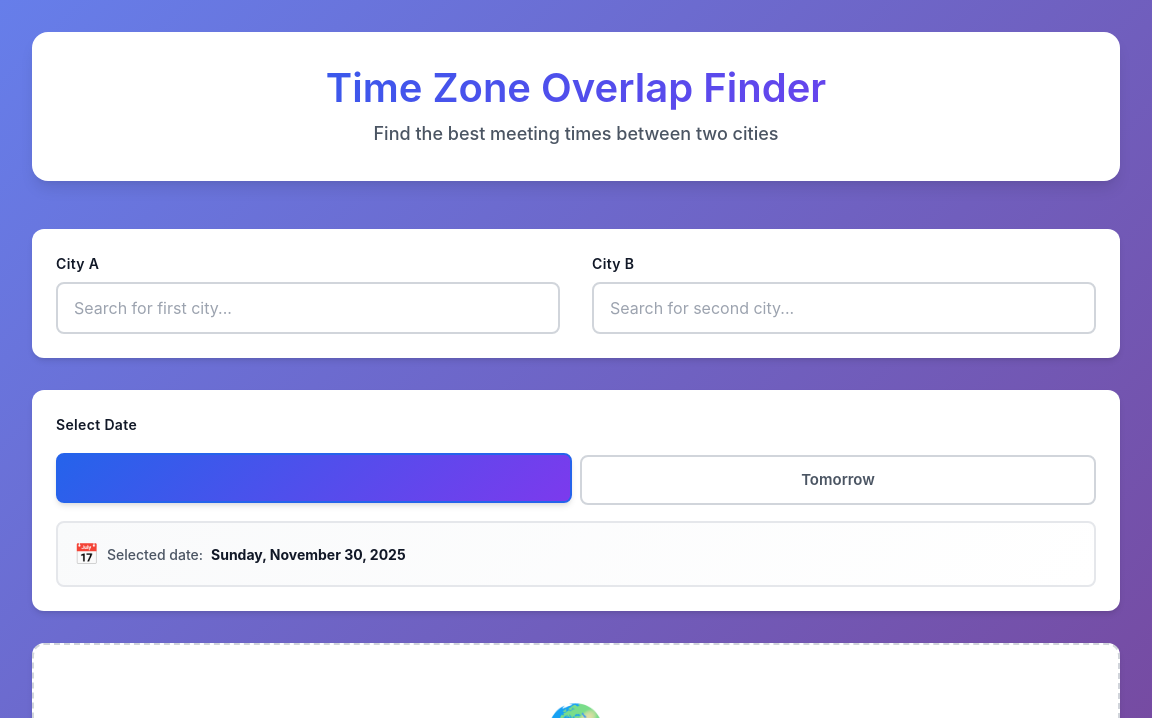
it: App - End-to-End Integration Tests › should maintain state when toggling custom hours on and off
// Select cities
Type "Paris" into the field named "search for city a". click: point(308, 308)
box: [56,282,560,334]
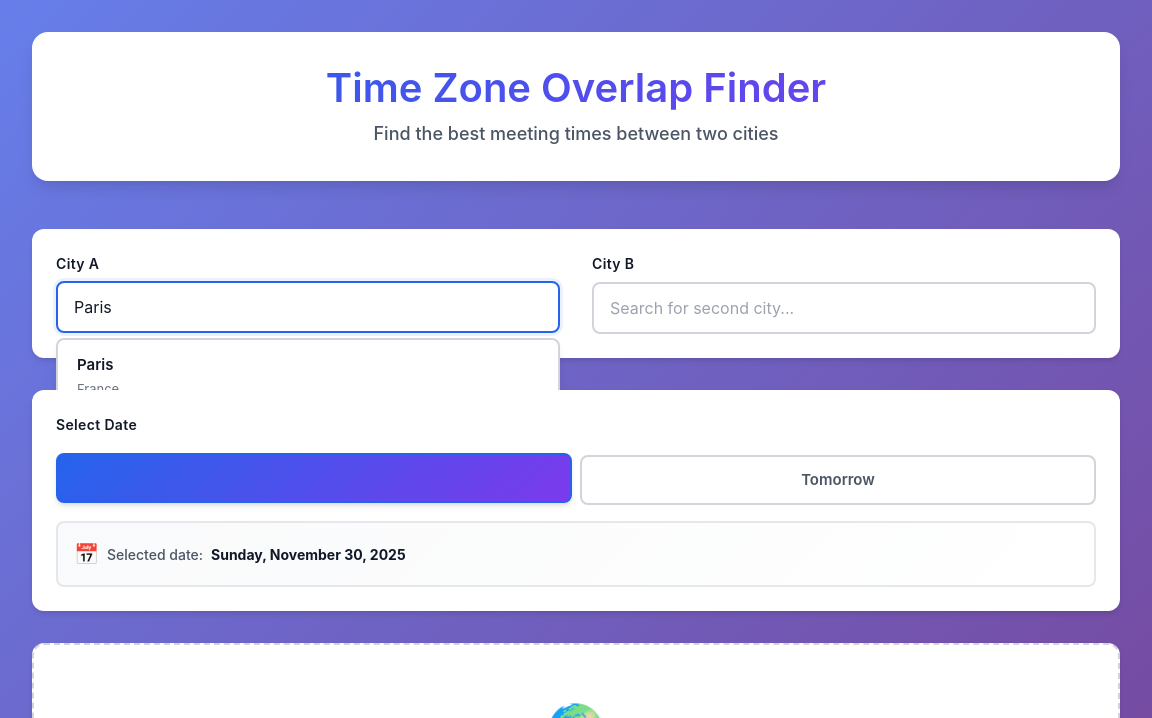
Expected: the text "Paris" is shown
Click the text "Paris". click: point(95, 364)
box: [77,355,113,374]
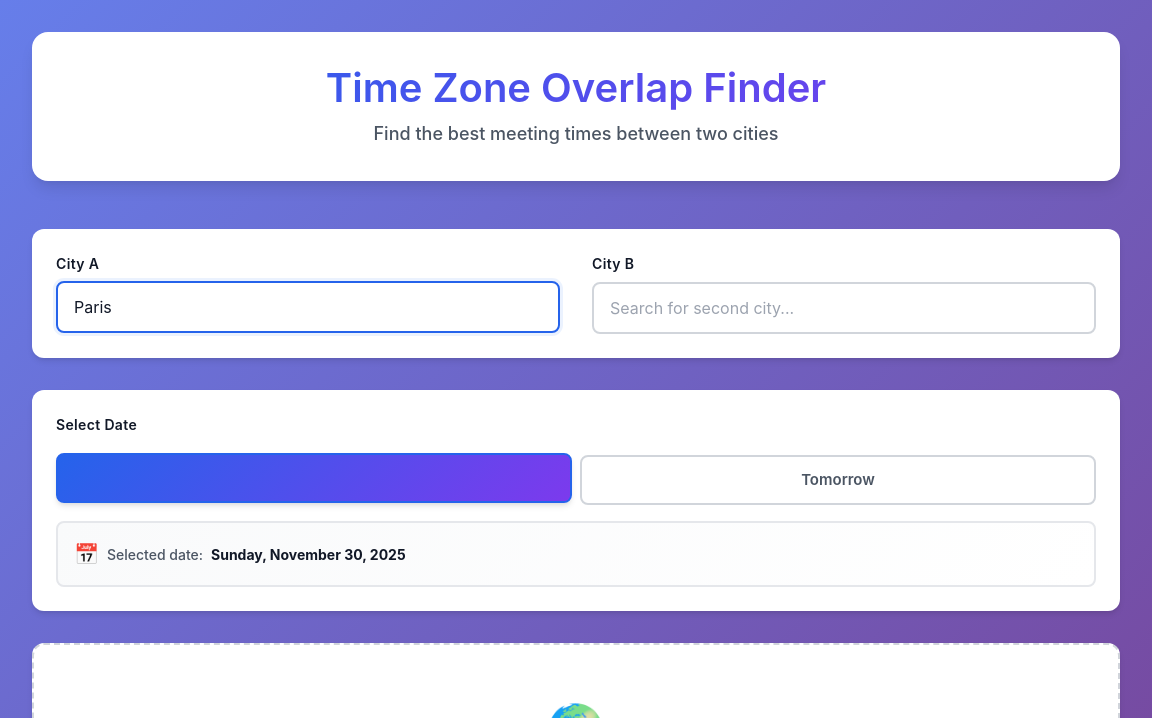
Type "Berlin" into the field named "search for city b". click: point(844, 308)
box: [592,282,1096,334]
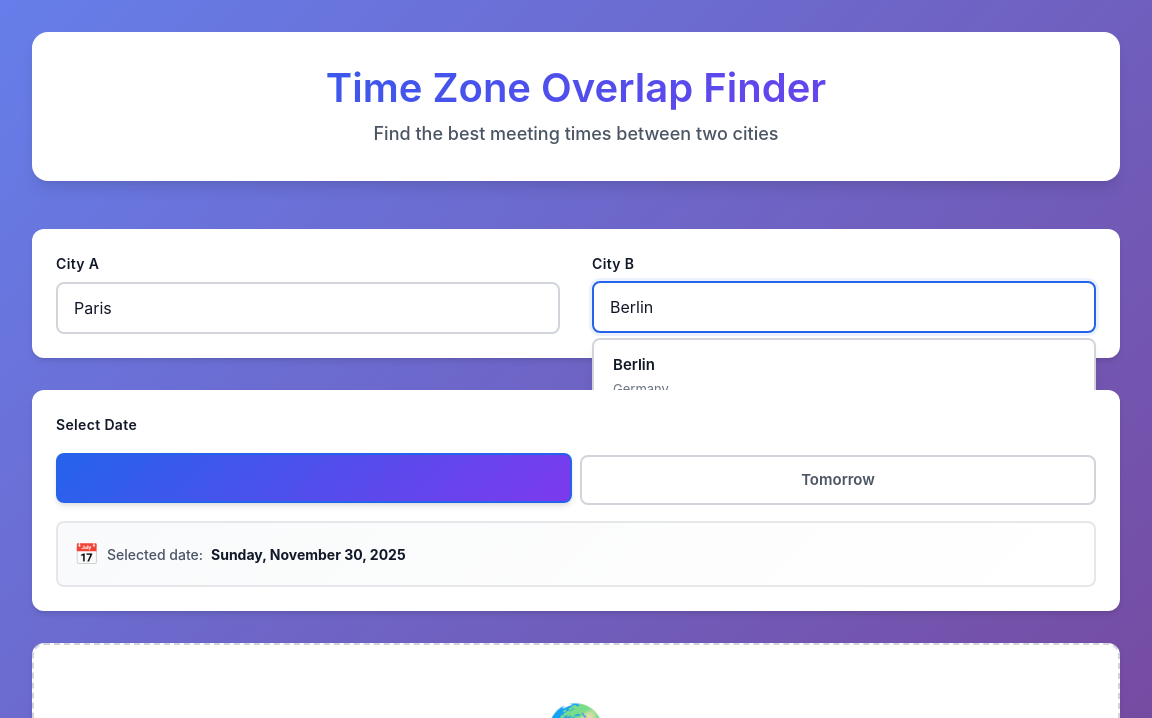
Expected: the text "Berlin" is shown
Click the text "Berlin". click: point(634, 364)
box: [613,355,655,374]
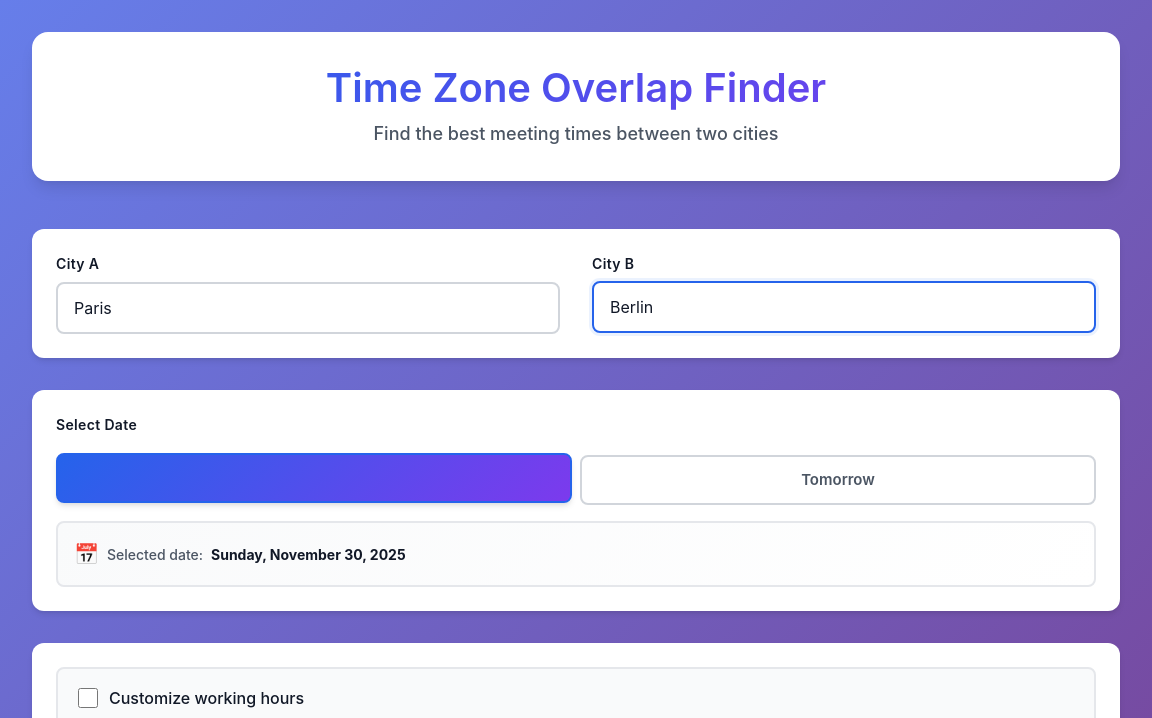
// Enable custom hours
Click the checkbox labelled "Customize working hours". click: point(88, 698)
box: [78,688,98,708]
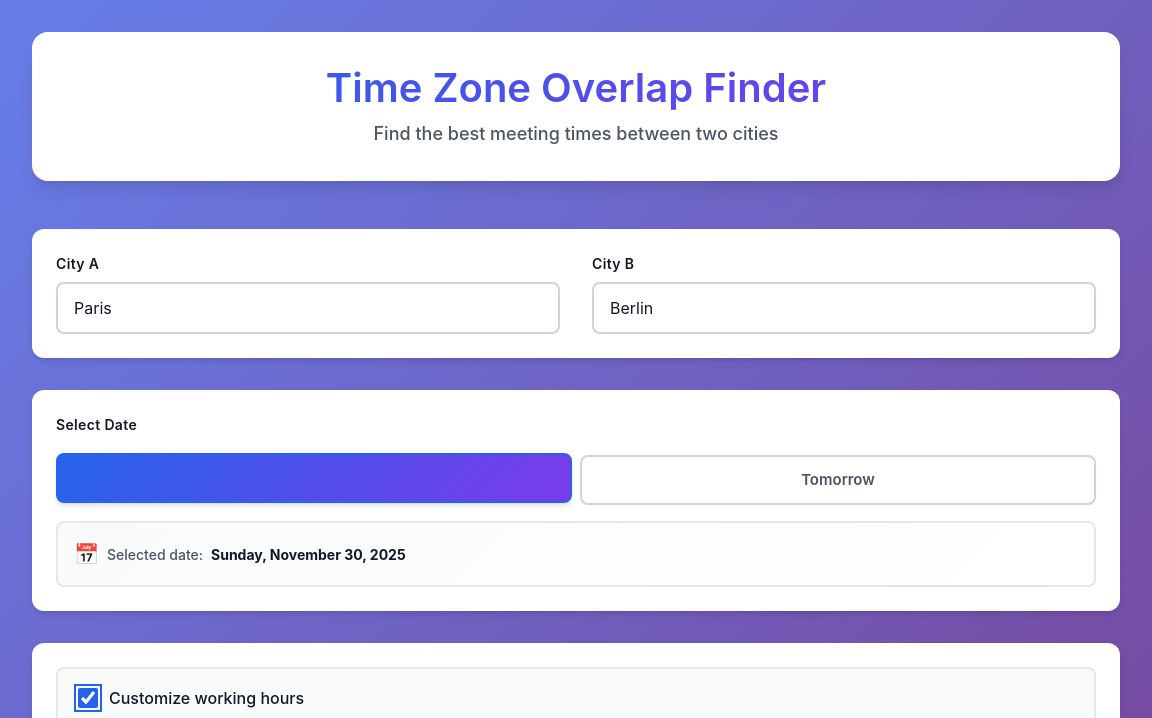
// Disable custom hours
Click the checkbox labelled "Customize working hours". click: point(88, 698)
box: [78,688,98,708]
(page scrolled)
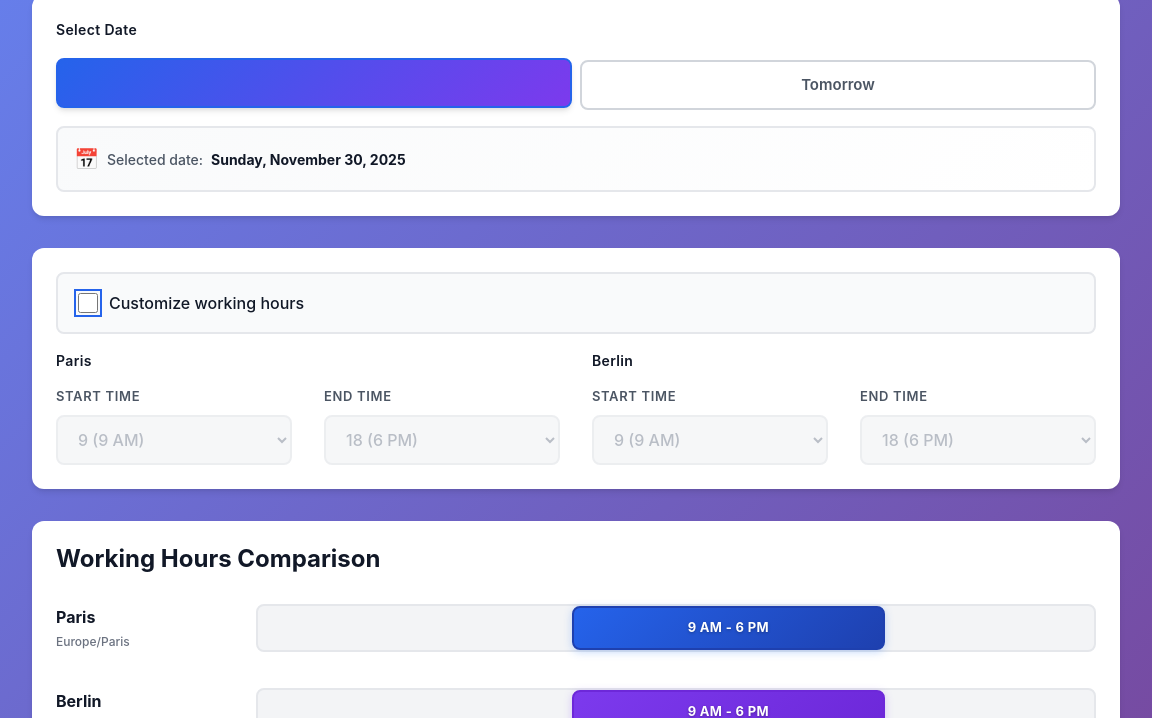
Expected: the text "Paris" is shown, [56,350,92,371]
Expected: the text "Berlin" is shown, [592,350,633,371]
Expected: the dropdown named "start time for paris" is disabled, [56,415,292,465]
